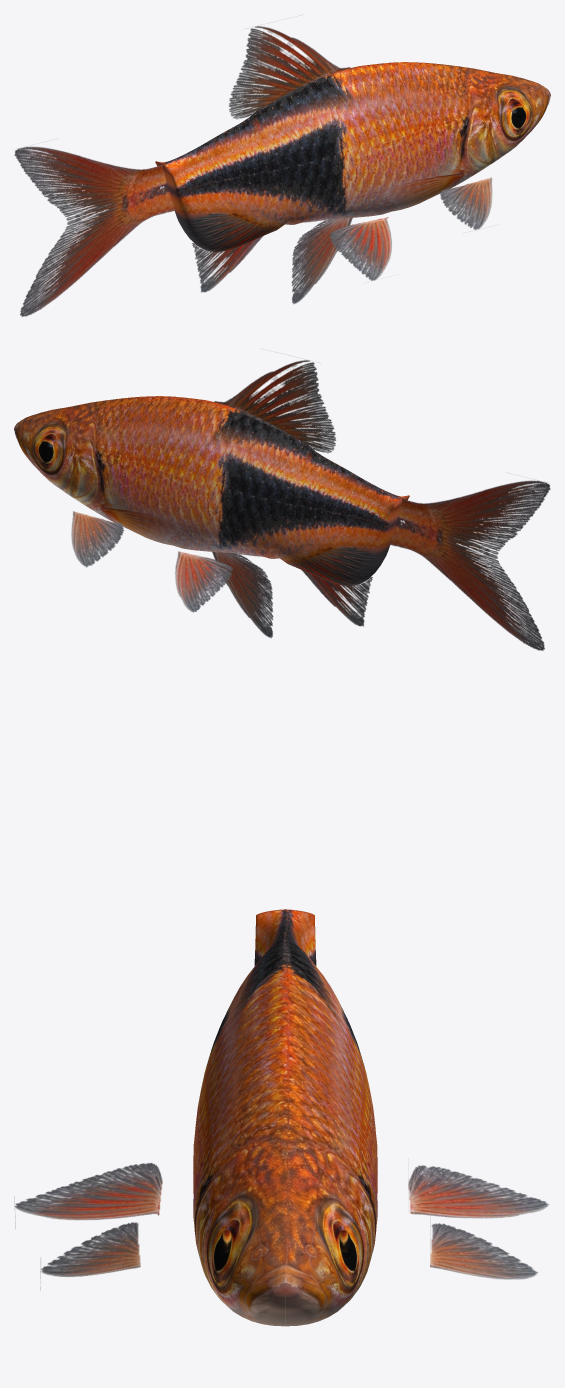
The model's file is species-harlequin.glb.
The picture shows the model from 3 angles, top to bottom: view 1: azimuth 30°, elevation 25°; view 2: azimuth 150°, elevation 25°; view 3: azimuth 270°, elevation 25°; orthographic projection. The views are drawn at different scales.
Parts seen in each view (by area): view 1: harlequin; view 2: harlequin; view 3: harlequin.
Part boxes in pixels (x1,y1,x2,y2): harlequin: [14, 26, 550, 316]; harlequin: [14, 360, 550, 650]; harlequin: [14, 909, 548, 1326].
Size of the model in its own units: 0.0401 by 0.0206 by 0.0191.
Materials: 1 (1 with a texture image).
